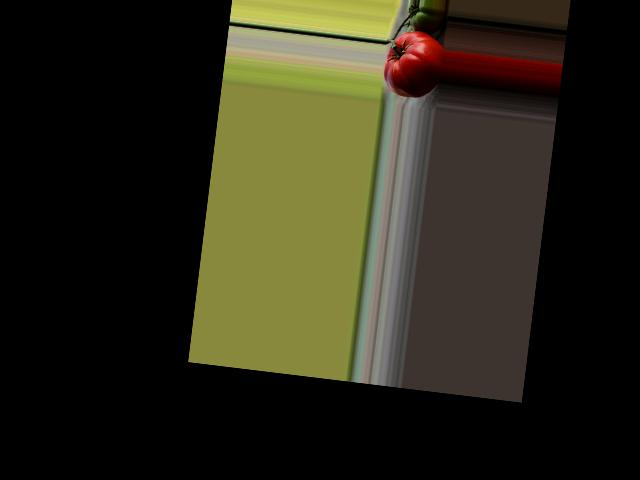tomato: (381, 28, 446, 101)
